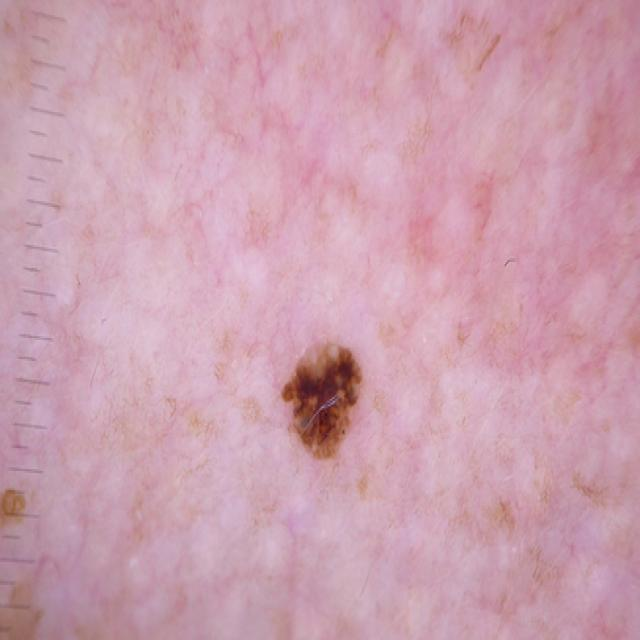Keratosis: (244, 298, 457, 522)
